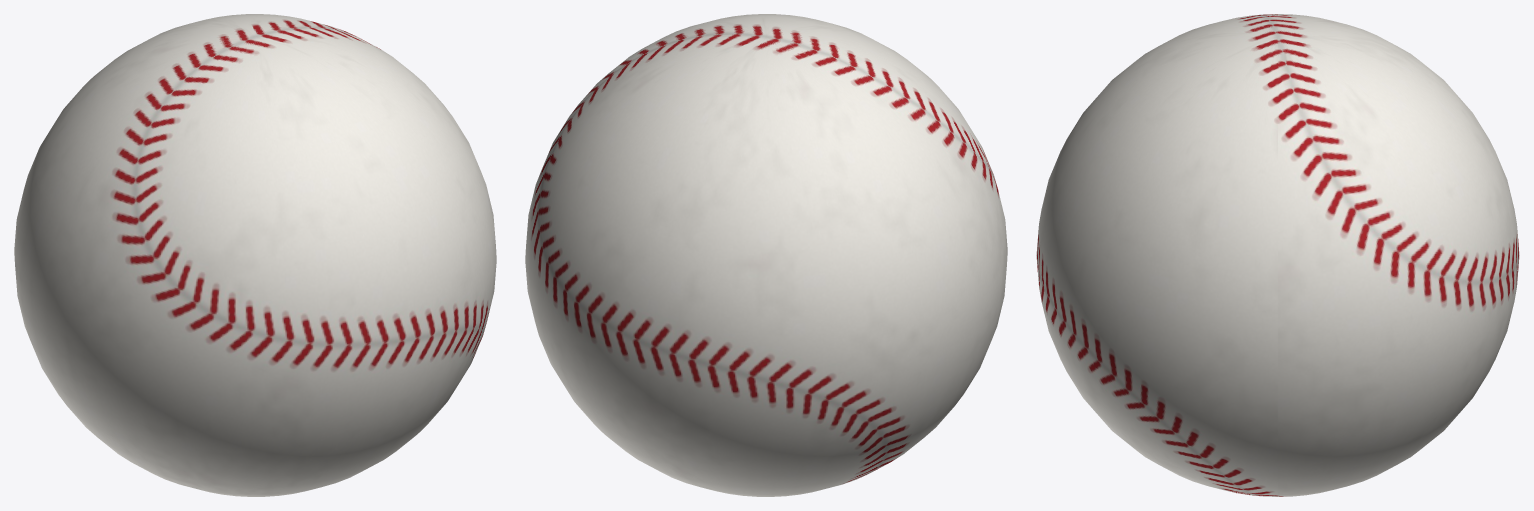
Rendered from ball.glb.
3 renders of one model, left to right at view 1: azimuth 30°, elevation 25°; view 2: azimuth 150°, elevation 25°; view 3: azimuth 270°, elevation 25°, orthographic.
Visible parts, largest first — view 1: Baseball; view 2: Baseball; view 3: Baseball.
Part boxes in pixels (x1,y1,x2,y2): Baseball: [14, 14, 496, 496]; Baseball: [525, 14, 1007, 496]; Baseball: [1036, 14, 1519, 496].
Size of the model in its own units: 0.0738 by 0.0738 by 0.0738.
1 material, 1 textured.
